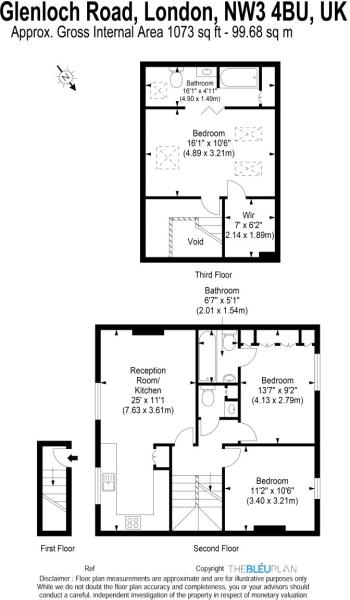GrossArea: (5, 22, 316, 47)
